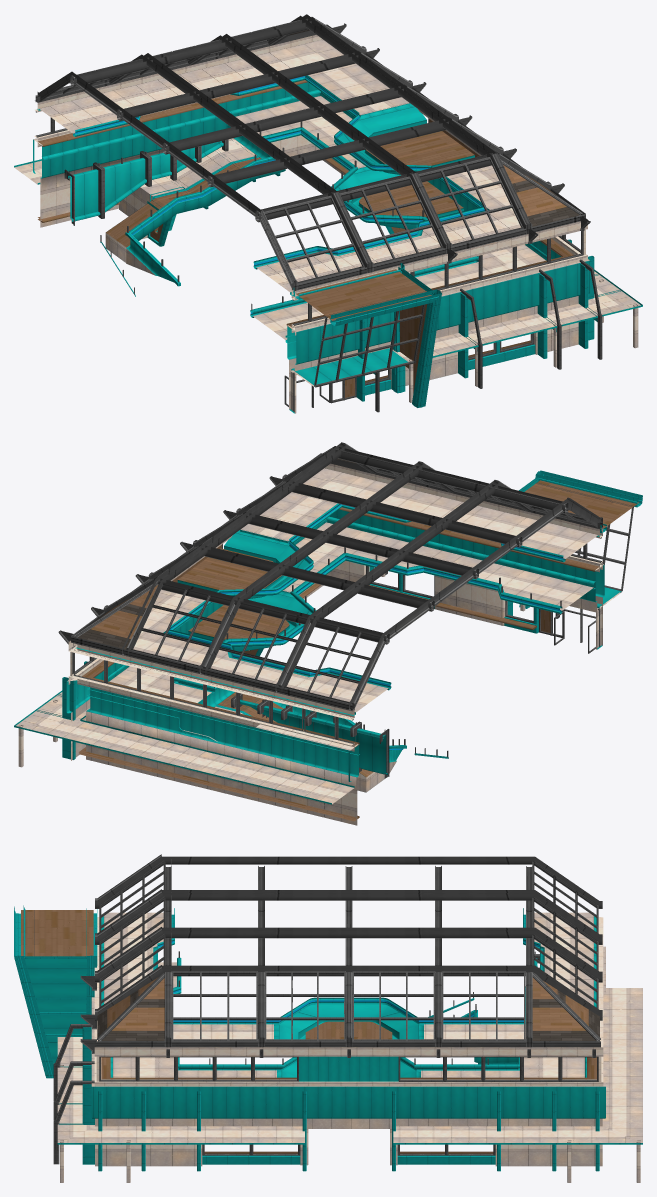
Rendered from ScienceBuilding_MainHall_02.fbx.
3 views of the same model, one above another, from view 1: azimuth 30°, elevation 25°; view 2: azimuth 150°, elevation 25°; view 3: azimuth 270°, elevation 25° (orthographic). The views are drawn at different scales.
Visible parts, largest first — view 1: ScienceBuilding_MainHall _02; view 2: ScienceBuilding_MainHall _02; view 3: ScienceBuilding_MainHall _02.
Boxes of the visible parts, box(x1,y1,x2,y2) form: ScienceBuilding_MainHall _02: box(14, 14, 642, 413); ScienceBuilding_MainHall _02: box(14, 442, 642, 825); ScienceBuilding_MainHall _02: box(14, 854, 642, 1182).
Bounding box in the file's own units: 4463 × 2310 × 7568.
